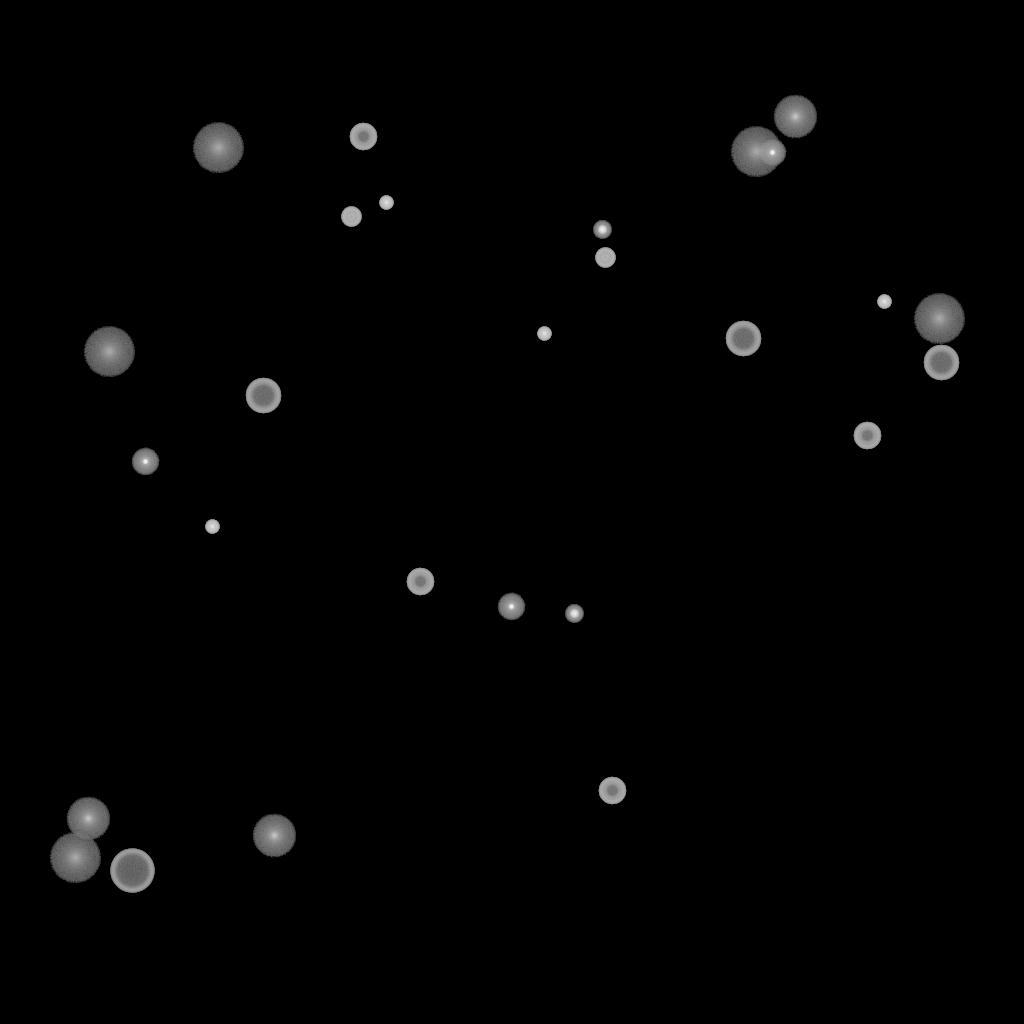depth:-10: (131, 448, 159, 476), (758, 139, 786, 167), (497, 593, 525, 621)
depth:-20: (565, 605, 583, 623), (593, 221, 611, 239)
depth:-30: (877, 295, 891, 309), (537, 327, 551, 341), (205, 520, 219, 534), (379, 196, 393, 210)
depth:-40: (341, 207, 361, 227), (595, 248, 615, 268)
depth:-50: (406, 568, 434, 596), (349, 123, 377, 151), (853, 422, 881, 450), (598, 777, 626, 805)
depth:-60: (245, 378, 281, 414), (725, 321, 761, 357), (923, 345, 959, 381)
depth:-70: (110, 849, 154, 893)
depth:10: (66, 797, 110, 841), (773, 95, 817, 139), (252, 814, 296, 858)
depth:20: (192, 123, 244, 173), (83, 327, 135, 377), (49, 833, 101, 883), (730, 127, 782, 177), (913, 294, 965, 344)
